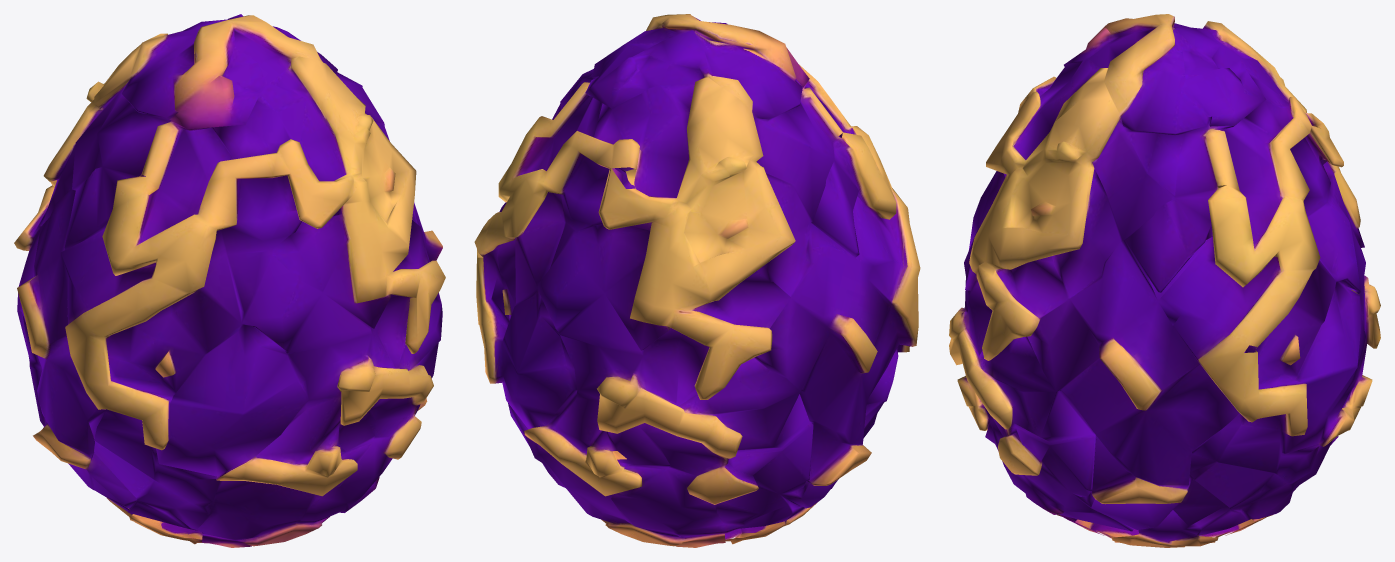
3 renders of one model, left to right at view 1: azimuth 30°, elevation 25°; view 2: azimuth 150°, elevation 25°; view 3: azimuth 270°, elevation 25°, orthographic.
Parts seen in each view (by area): view 1: tripo_node_e862ab66-70a7-4405-a7c9-07e86660b3de; view 2: tripo_node_e862ab66-70a7-4405-a7c9-07e86660b3de; view 3: tripo_node_e862ab66-70a7-4405-a7c9-07e86660b3de.
Part boxes in pixels (<box>): tripo_node_e862ab66-70a7-4405-a7c9-07e86660b3de: <box>14,14,445,547</box>; tripo_node_e862ab66-70a7-4405-a7c9-07e86660b3de: <box>474,14,920,547</box>; tripo_node_e862ab66-70a7-4405-a7c9-07e86660b3de: <box>949,14,1380,547</box>.
Size of the model in its own units: 0.7926 by 1 by 0.7965.
Materials: 1 (1 with a texture image).
